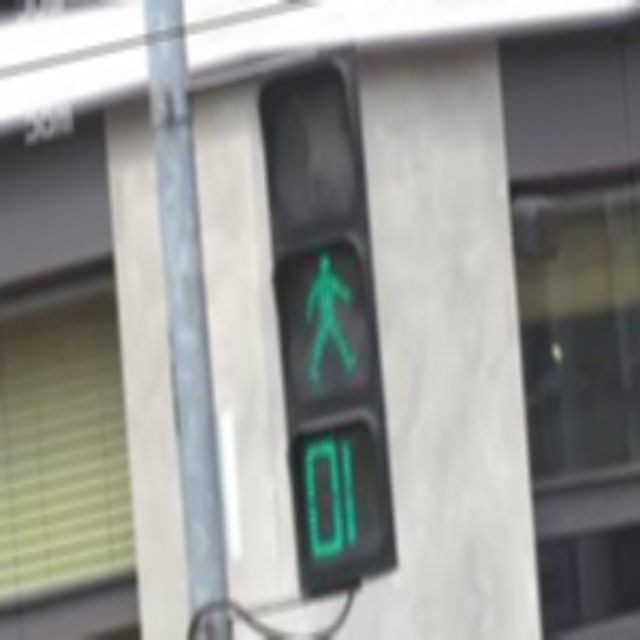green_light: (293, 247, 362, 396), (302, 431, 363, 563)
